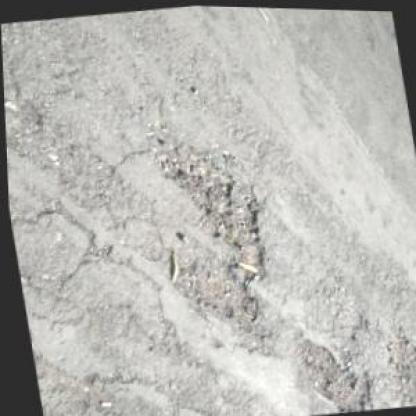pothole: (144, 136, 278, 338), (374, 320, 414, 406)
